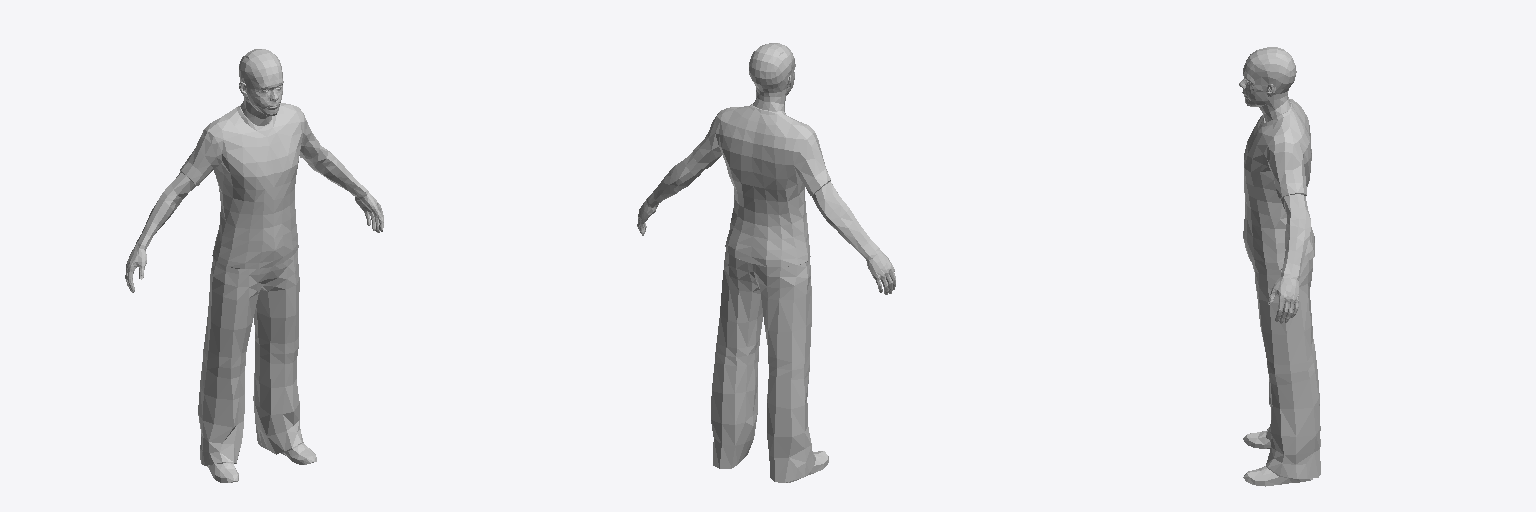
Rendered from man.obj.
3 renders of one model, left to right at view 1: azimuth 30°, elevation 25°; view 2: azimuth 150°, elevation 25°; view 3: azimuth 270°, elevation 25°, orthographic.
Visible parts, largest first — view 1: SMan0002_M3_Mesh; view 2: SMan0002_M3_Mesh; view 3: SMan0002_M3_Mesh.
Boxes of the visible parts, box(x1,y1,x2,y2) form: SMan0002_M3_Mesh: box(125, 49, 383, 482); SMan0002_M3_Mesh: box(637, 43, 895, 482); SMan0002_M3_Mesh: box(1239, 47, 1320, 486).
Bounding box in the file's own units: 31.05 × 47.97 × 8.65.